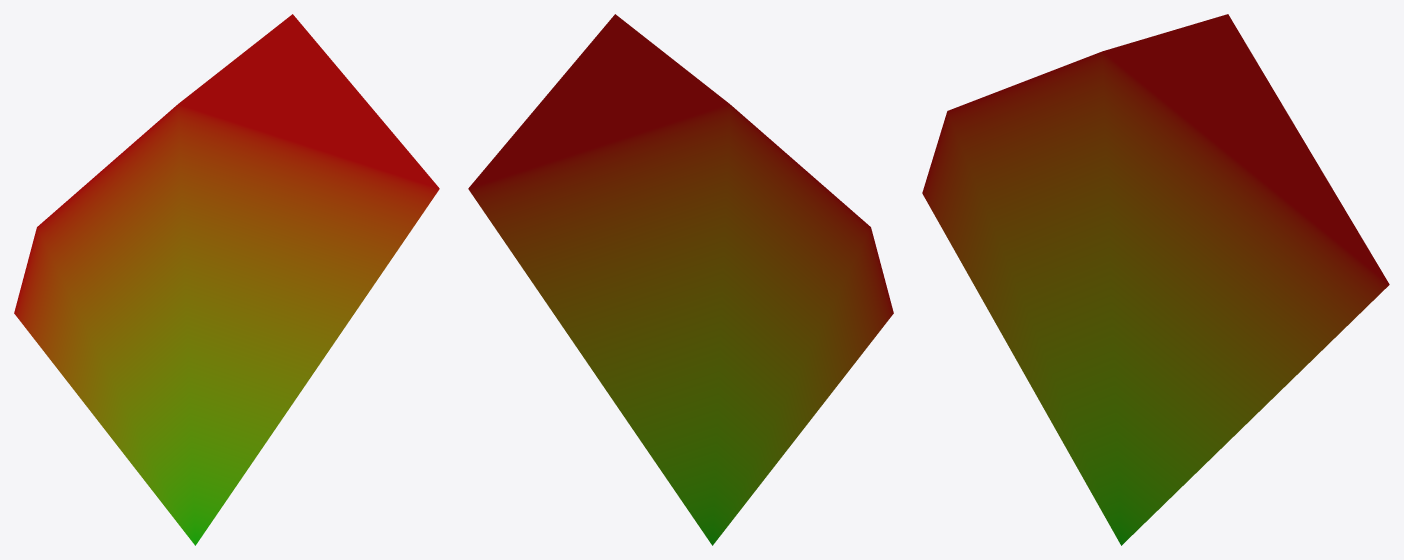
Rendered from Raspberry_LOD4_Var7_wf0oefeja.fbx.
3 renders of one model, left to right at view 1: azimuth 30°, elevation 25°; view 2: azimuth 150°, elevation 25°; view 3: azimuth 330°, elevation 25°, orthographic. The views are drawn at different scales.
Parts seen in each view (by area): view 1: _qcug_Var7_LOD4; view 2: _qcug_Var7_LOD4; view 3: _qcug_Var7_LOD4.
Boxes of the visible parts, <box> form: _qcug_Var7_LOD4: <box>14,14,439,545</box>; _qcug_Var7_LOD4: <box>468,14,893,545</box>; _qcug_Var7_LOD4: <box>922,14,1389,545</box>.
Size of the model in its own units: 43.69 by 49.83 by 5.94e-06.
